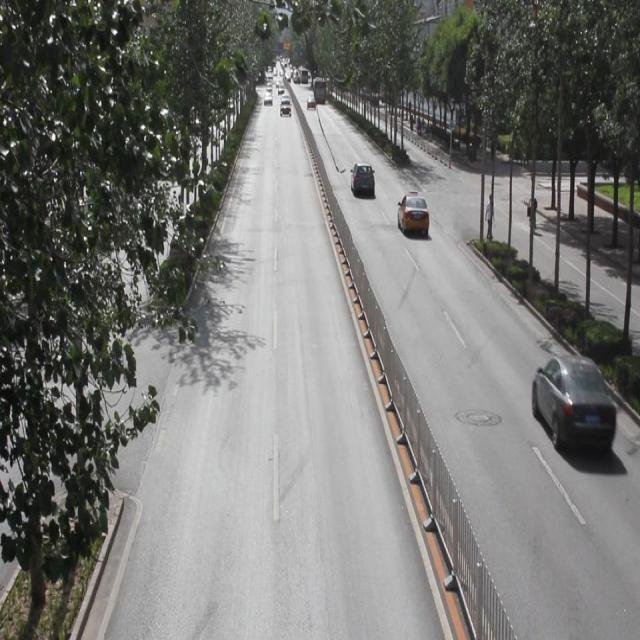car: (530, 353, 614, 456), (396, 194, 429, 239), (350, 160, 376, 201)
